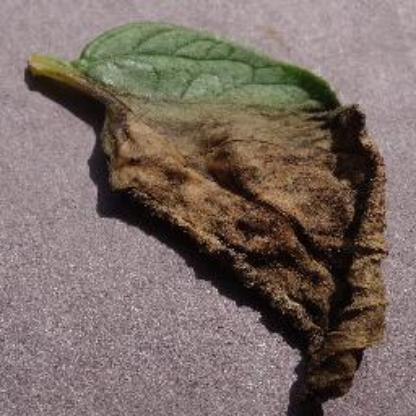Late-Blight: (23, 15, 403, 413)
